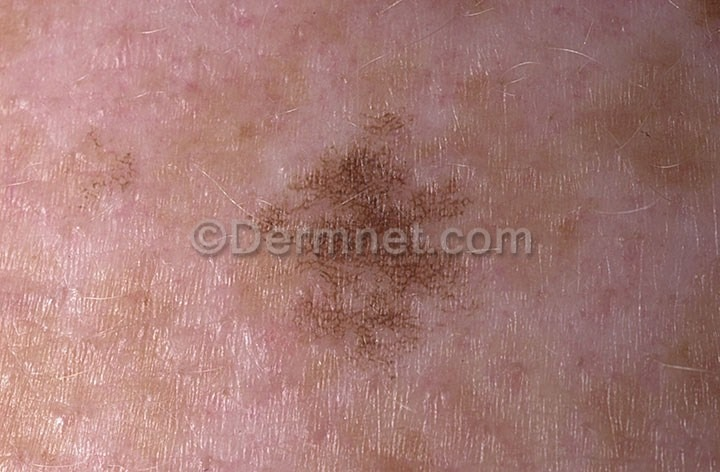Melasma: (254, 111, 516, 224), (295, 256, 477, 394)
